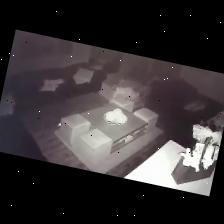person: (112, 85, 143, 109)
